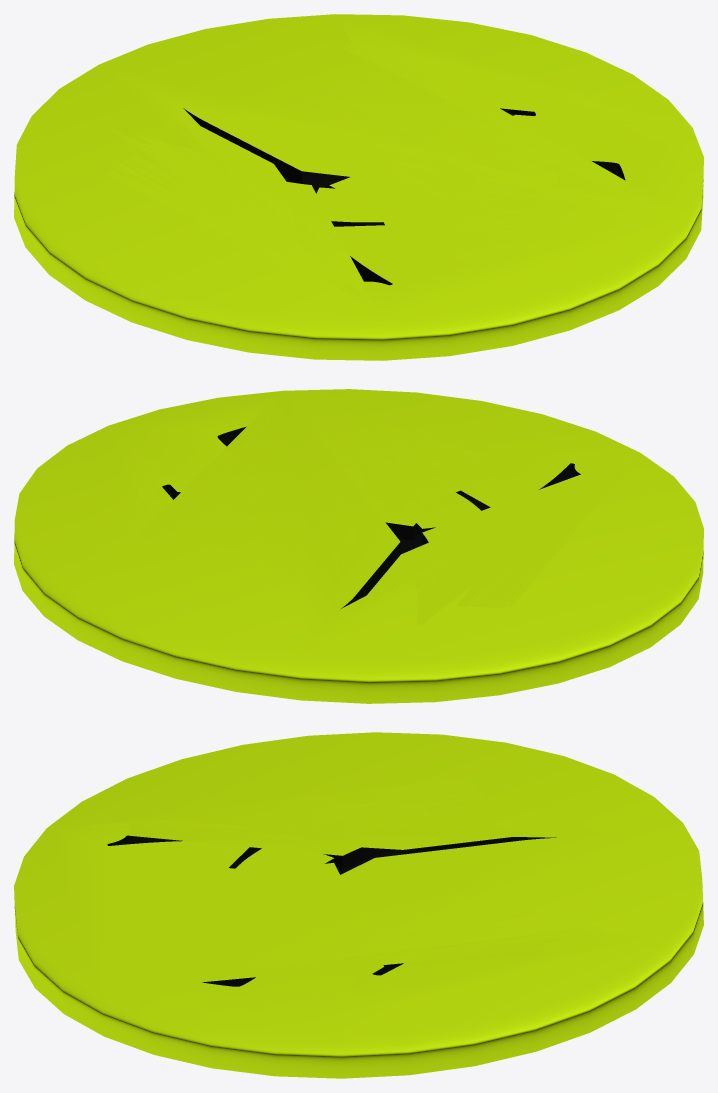
The model's file is コイントス（表裏）.fbx.
The picture shows the model from 3 angles, top to bottom: view 1: azimuth 30°, elevation 25°; view 2: azimuth 150°, elevation 25°; view 3: azimuth 270°, elevation 25°; orthographic projection. The views are drawn at different scales.
Visible parts, largest first — view 1: 円柱; view 2: 円柱; view 3: 円柱.
Boxes of the visible parts, x1,y1,x2,y2 form: 円柱: (14,14,703,360); 円柱: (14,389,703,703); 円柱: (14,732,703,1078).
Size of the model in its own units: 169 by 17.15 by 165.
